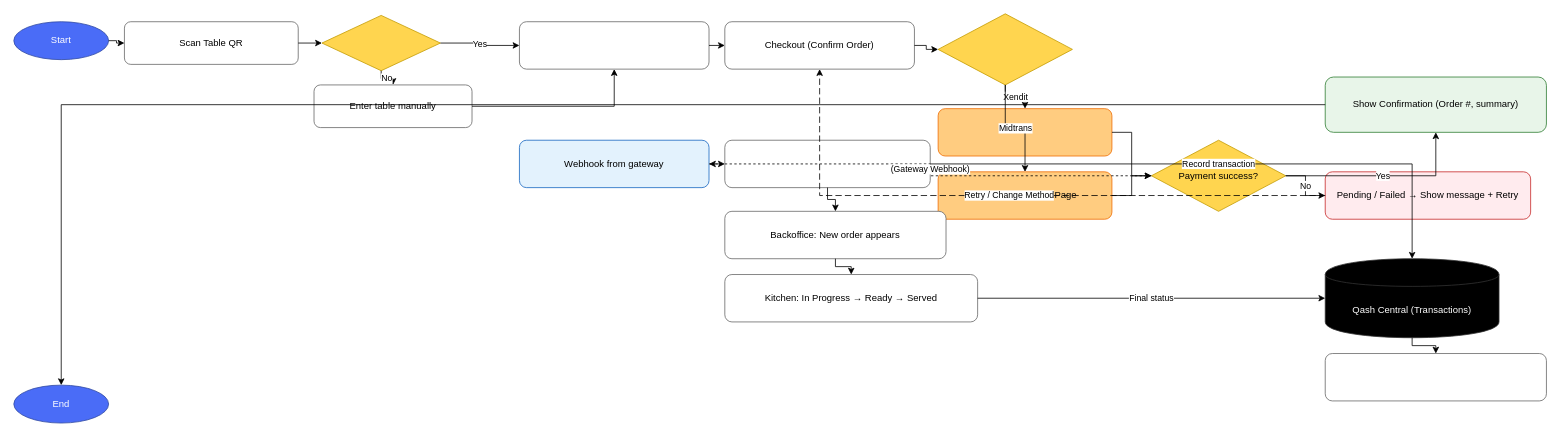
This 1560x437 diagram has some shape labels left out. Here are the shapes that lost their labels. From the top down, the centre of each, then its label:
At pixel 380 43: "Valid QR?".
At pixel 614 45: "Load Menu & Add Items".
At pixel 1004 49: "Choose Payment Gateway".
At pixel 1024 132: "Xendit Checkout Page".
At pixel 827 163: "Mark order Paid (attach table/floor)".
At pixel 1435 377: "Dashboards & Reports (all tenants)".
